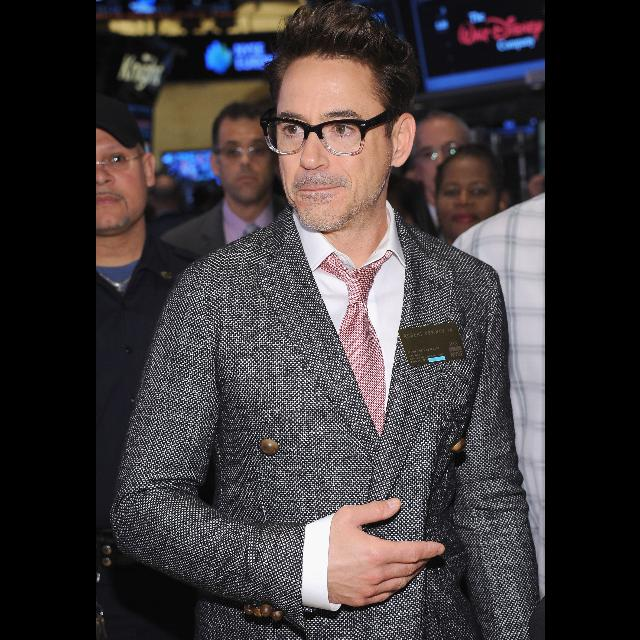glasses: (259, 106, 406, 158)
